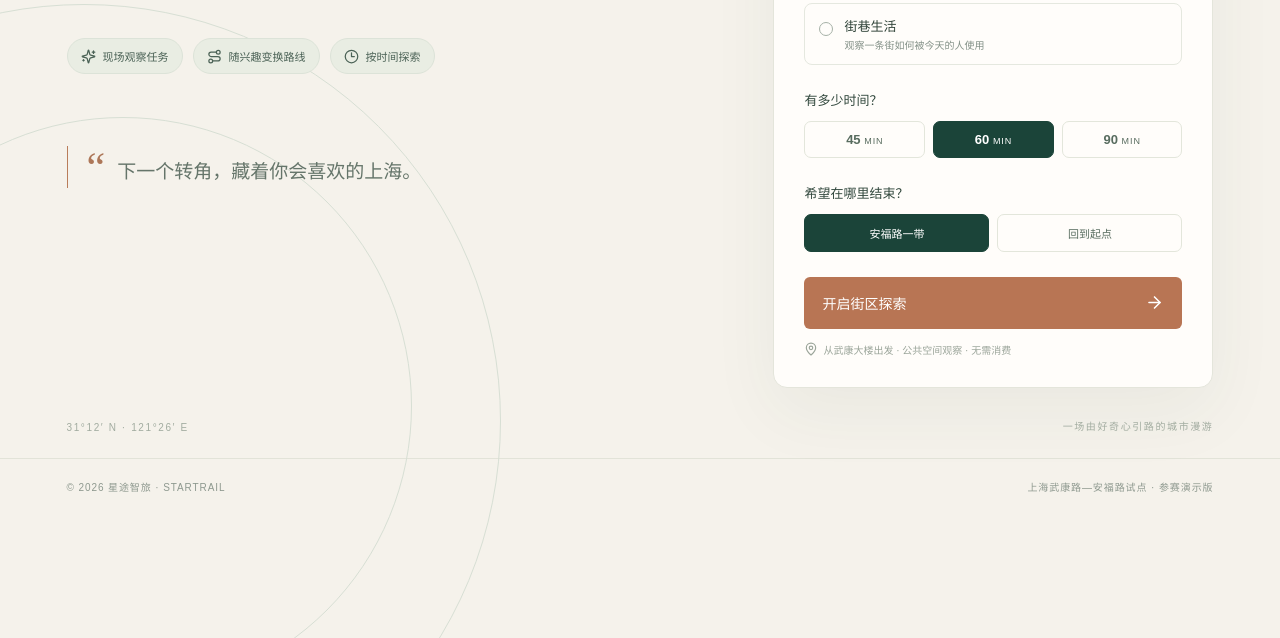
Test: visitor journey › starts, answers a place task, and changes to a recommended next stop
(page scrolled)
Click the button "开启街区探索". click: (864, 304)
box: [804,277,1182,329]
(page scrolled)
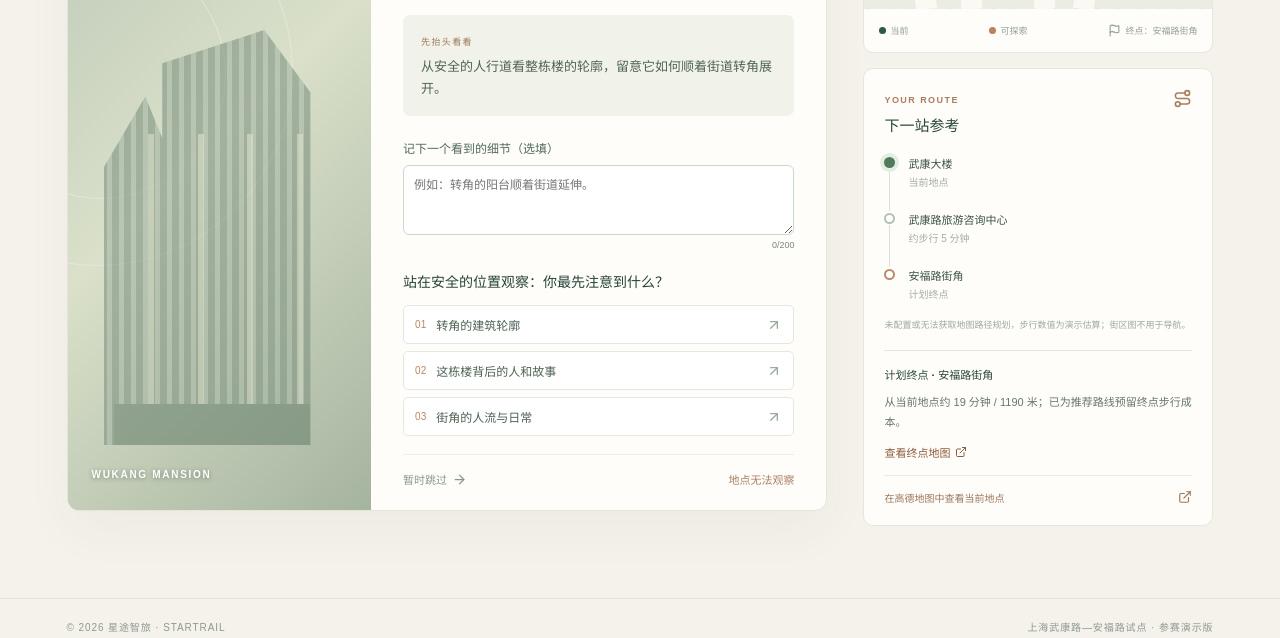
Click the button "01 转角的建筑轮廓". click: (478, 326)
box: [403,305,794,344]
(page scrolled)
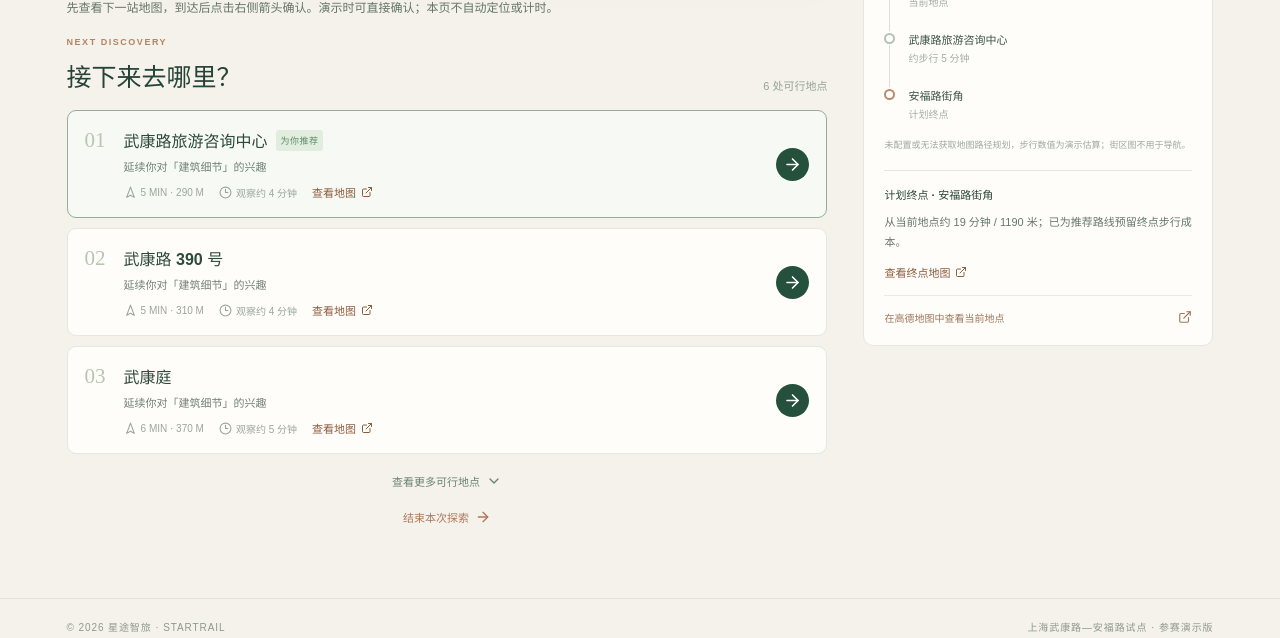
Result: the heading "接下来去哪里？" is shown at [66,57,242,93]
Click the button named "前往武康路旅游咨询中心". click: (793, 164)
box: [776,148,810,181]
(page scrolled)
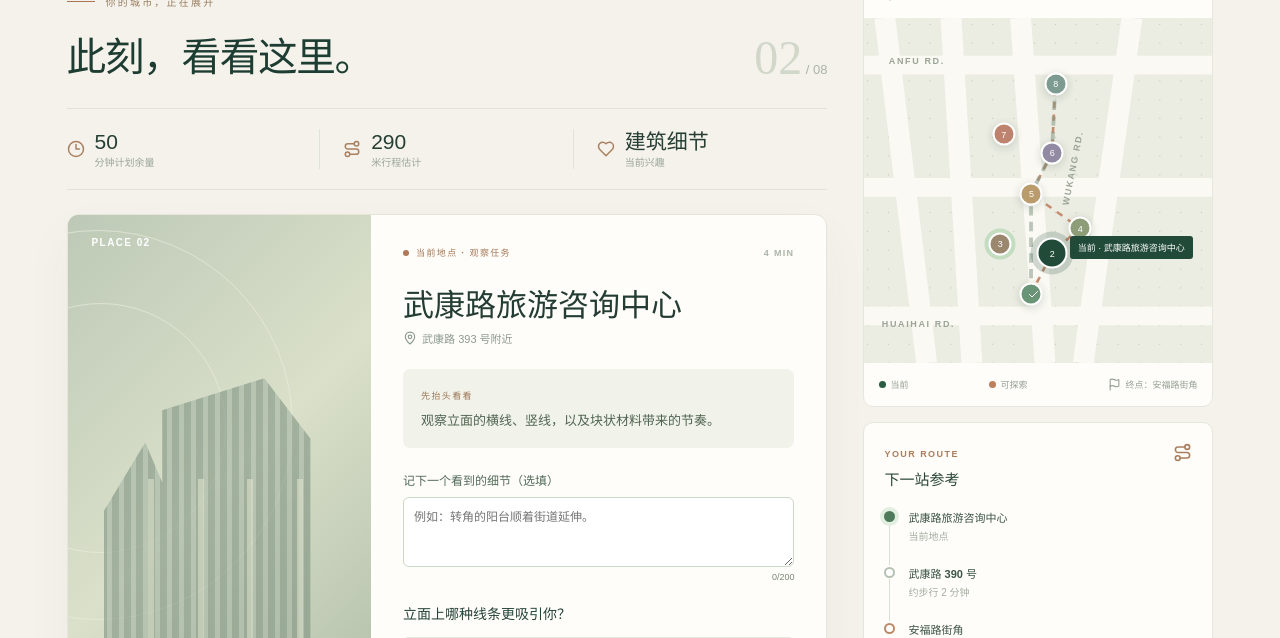
Result: the heading "武康路旅游咨询中心" is shown at [403,288,682,323]
